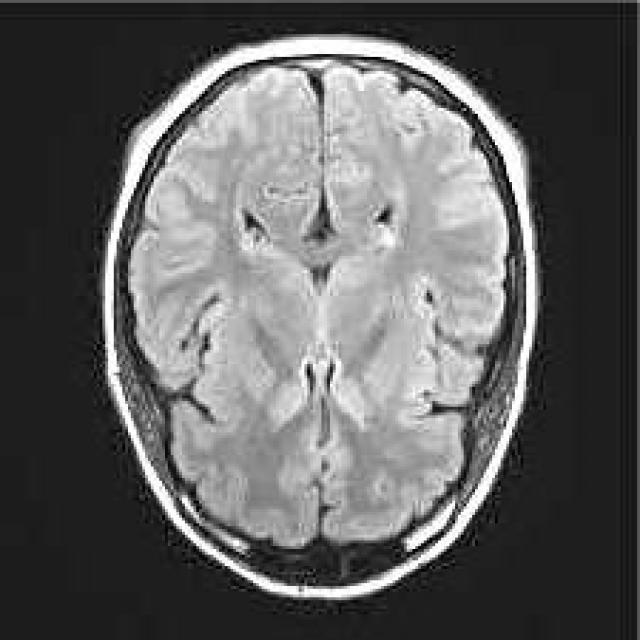notumor: (105, 37, 538, 597)
